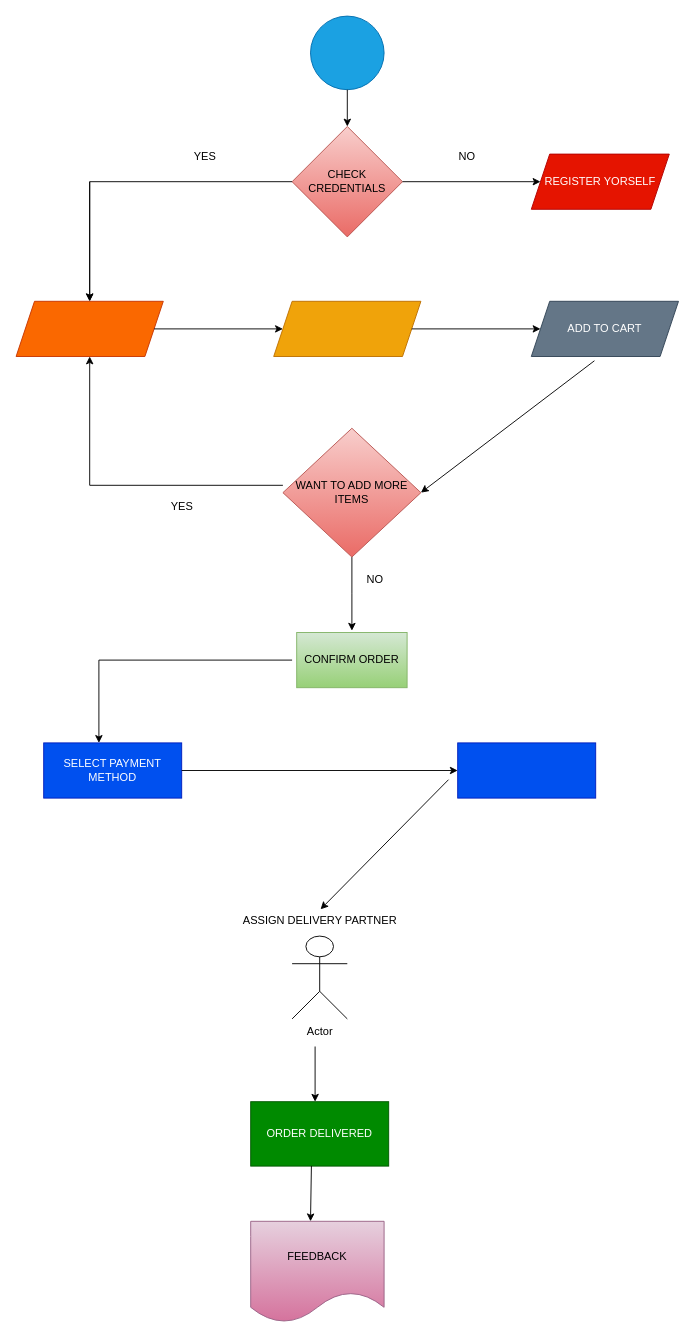
Some shapes in this 695 by 1339 pixel diagram are drawn without their labels. The centre of each missing label's shape, as x and y in pixels:
"ADDRESS" goes at pixel 526 770.
"BROWSE FOR RESTAURANTS" goes at pixel 89 328.
"FOOD" goes at pixel 347 328.
"LOGIN" goes at pixel 347 52.
